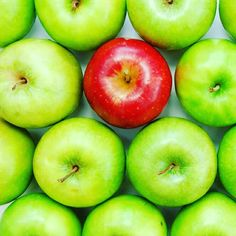Apple: (84, 34, 171, 129)
